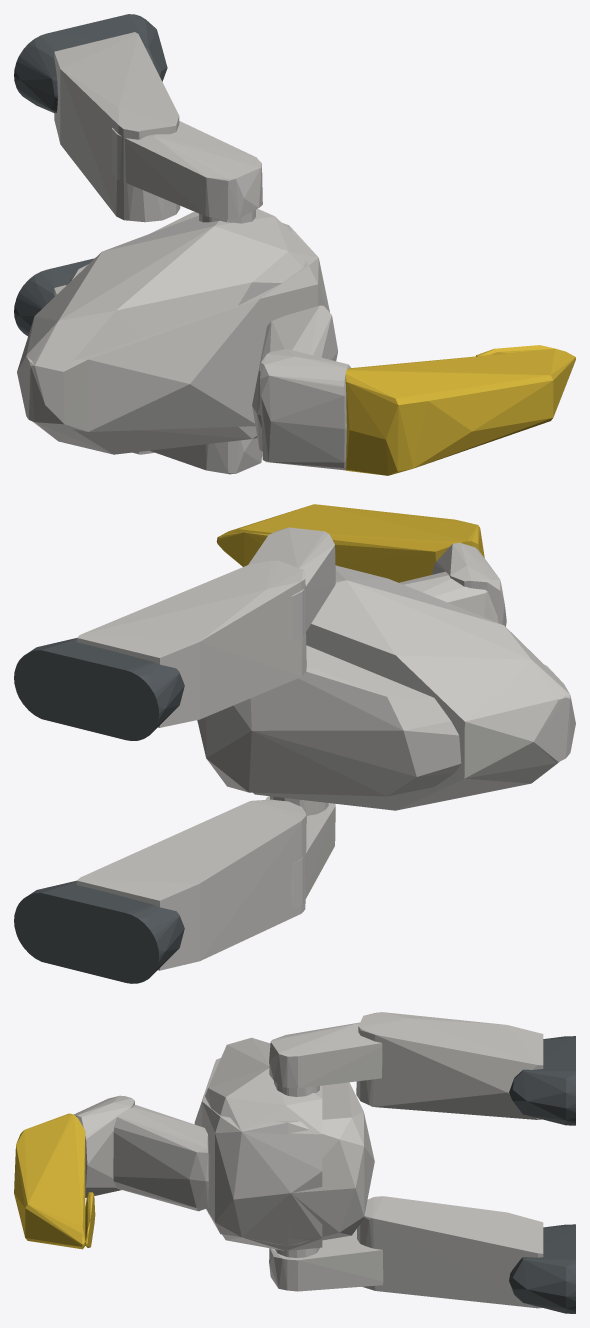
Rendered from runtime_contacts.glb.
3 renders of one model, top to bottom at view 1: azimuth 30°, elevation 25°; view 2: azimuth 150°, elevation 25°; view 3: azimuth 270°, elevation 25°, orthographic. The views are drawn at different scales.
Parts seen in each view (by area): view 1: torso_upper_envelope, torso_central_keel, upper_bill_envelope, left_shin_envelope, left_thigh_envelope, neck_mid_pitch_envelope, left_actual_sole, neck_pitch_envelope, right_thigh_envelope, right_actual_sole; view 2: torso_upper_envelope, torso_central_keel, right_shin_envelope, left_shin_envelope, right_actual_sole, left_actual_sole, upper_bill_envelope, left_thigh_envelope, right_thigh_envelope, neck_mid_pitch_envelope, neck_pitch_envelope, lower_bill_envelope; view 3: left_shin_envelope, right_shin_envelope, torso_central_keel, torso_upper_envelope, upper_bill_envelope, neck_pitch_envelope, left_thigh_envelope, right_thigh_envelope, right_actual_sole, left_actual_sole, neck_mid_pitch_envelope, lower_bill_envelope.
Boxes of the visible parts, box(x1,y1,x2,y2) form: torso_upper_envelope: box(17, 208, 323, 454); torso_central_keel: box(17, 212, 329, 431); upper_bill_envelope: box(345, 349, 575, 475); left_shin_envelope: box(54, 32, 180, 222); left_thigh_envelope: box(112, 121, 262, 219); neck_mid_pitch_envelope: box(260, 349, 350, 470); left_actual_sole: box(14, 14, 167, 113); neck_pitch_envelope: box(252, 305, 337, 451); right_thigh_envelope: box(150, 438, 261, 474); right_actual_sole: box(14, 258, 94, 335); torso_upper_envelope: box(253, 565, 574, 810); torso_central_keel: box(197, 645, 575, 796); right_shin_envelope: box(76, 799, 306, 970); left_shin_envelope: box(76, 560, 306, 727); right_actual_sole: box(14, 880, 184, 983); left_actual_sole: box(14, 638, 184, 740); upper_bill_envelope: box(217, 504, 484, 582); left_thigh_envelope: box(248, 527, 335, 641); right_thigh_envelope: box(265, 796, 335, 909); neck_mid_pitch_envelope: box(432, 542, 506, 626); neck_pitch_envelope: box(399, 571, 498, 622); lower_bill_envelope: box(216, 532, 269, 566); left_shin_envelope: box(356, 1012, 543, 1119); right_shin_envelope: box(357, 1196, 543, 1308); torso_central_keel: box(194, 1058, 374, 1245); torso_upper_envelope: box(205, 1037, 322, 1250); upper_bill_envelope: box(14, 1113, 85, 1249); neck_pitch_envelope: box(113, 1104, 209, 1211); left_thigh_envelope: box(269, 1022, 382, 1088); right_thigh_envelope: box(269, 1229, 383, 1291); right_actual_sole: box(509, 1224, 575, 1313); left_actual_sole: box(509, 1036, 575, 1125); neck_mid_pitch_envelope: box(74, 1095, 134, 1197); lower_bill_envelope: box(85, 1192, 95, 1247).
Bounding box in the file's own units: 0.4916 × 0.343 × 0.6762.
